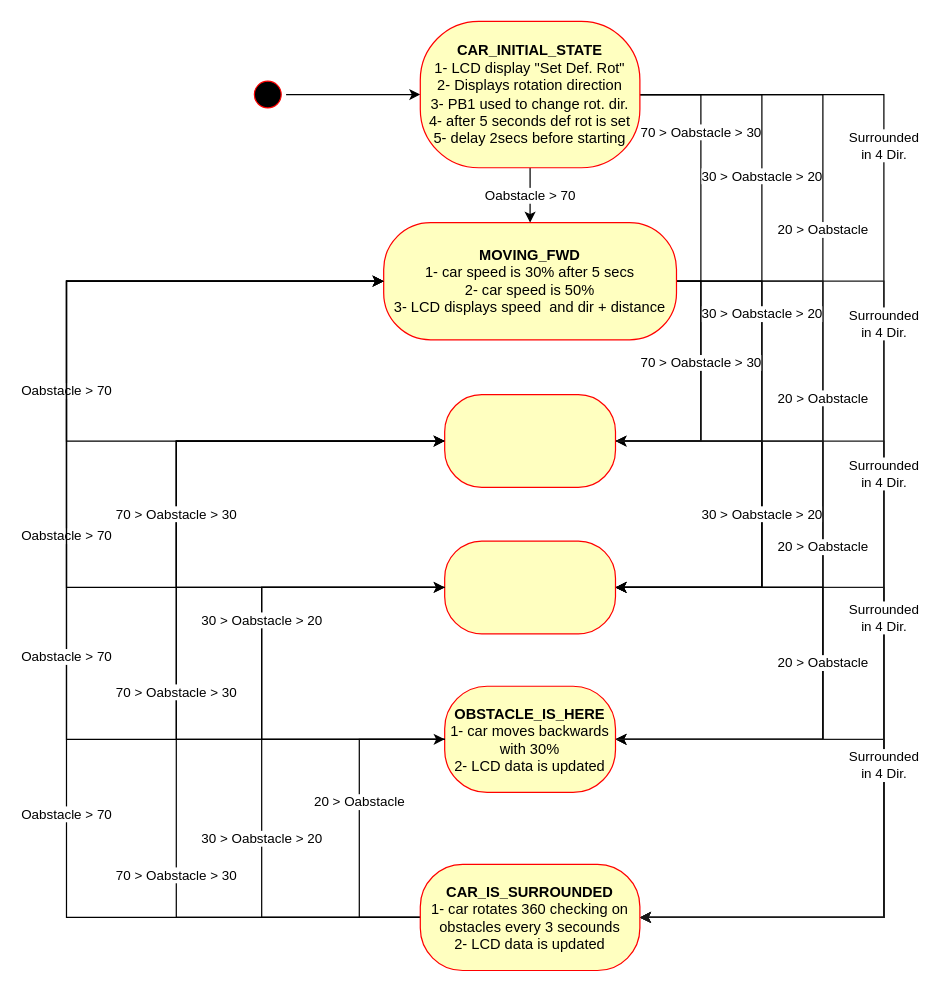
This 939x992 diagram has some shape labels left out. Each missing label, with the centre of its shape:
FOUND_OBSTACLE 1- car speed is 30% 2- LCD data is updated: the point at 529,440
OBSTACLE_IS_CLOSE 1- car starts to rotate 90 2- LCD data is updated: the point at 529,587
